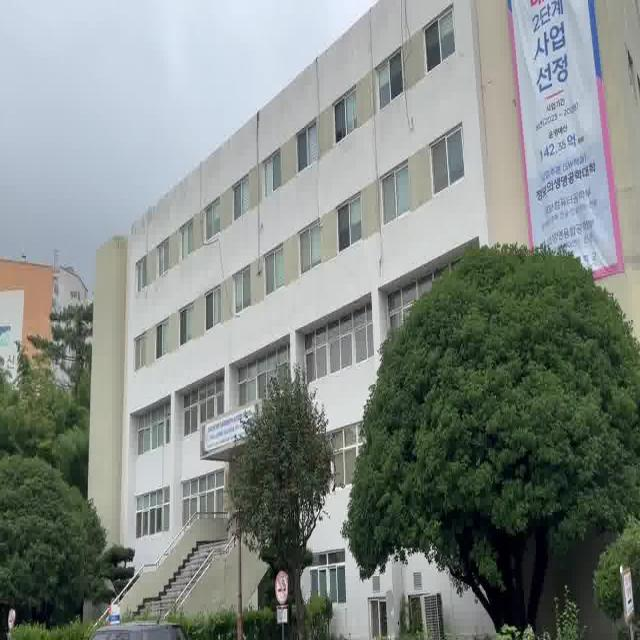building: (85, 71, 372, 408)
